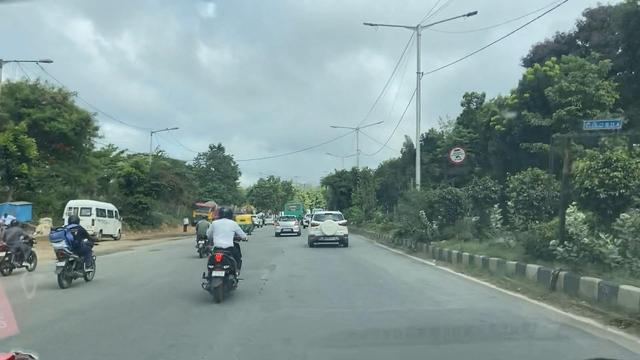HMV: (56, 195, 126, 241)
LMV: (176, 193, 254, 322), (44, 208, 104, 288), (0, 217, 50, 281), (305, 205, 352, 245), (264, 209, 301, 246), (235, 206, 253, 241)
